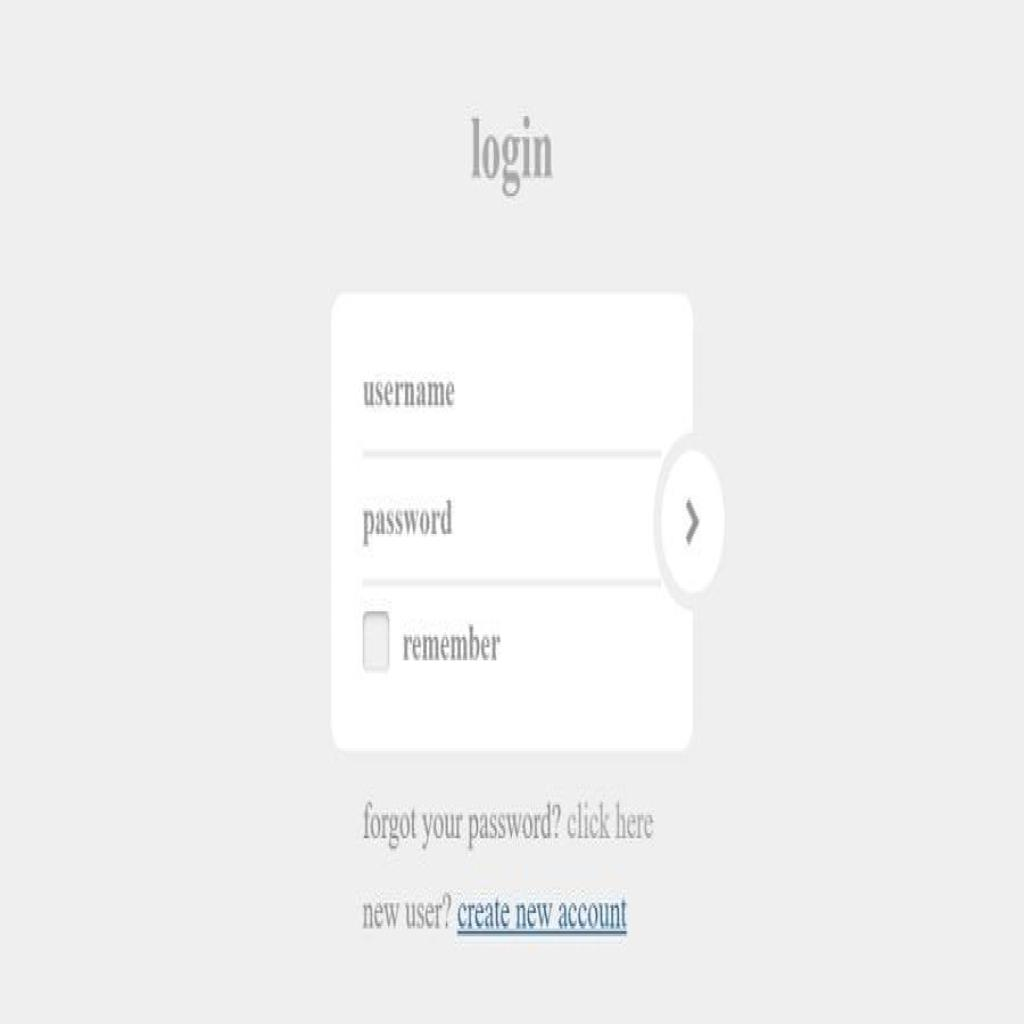checkbox: (362, 609, 390, 673)
icon: (680, 485, 706, 552)
label: (402, 622, 508, 678)
